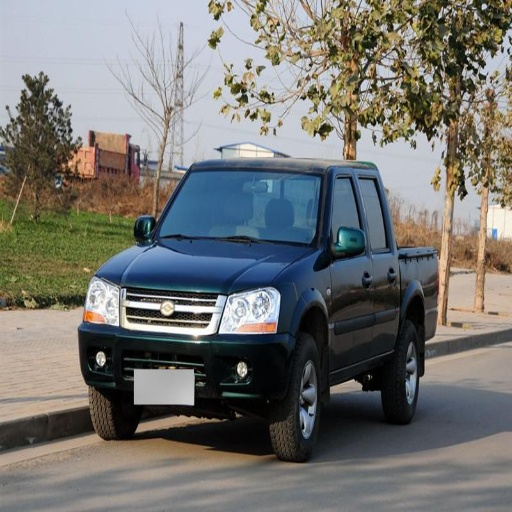back_glass: (354, 169, 396, 354)
back_right_light: (79, 286, 292, 417)
front_bumper: (145, 170, 322, 244)
front_glass: (327, 170, 374, 370)
front_left_door: (222, 285, 279, 331)
front_right_door: (85, 276, 121, 324)
front_right_light: (102, 237, 305, 294)
tailgate: (400, 247, 441, 313)
trunk: (266, 339, 324, 460), (381, 318, 422, 423), (89, 390, 140, 439)
